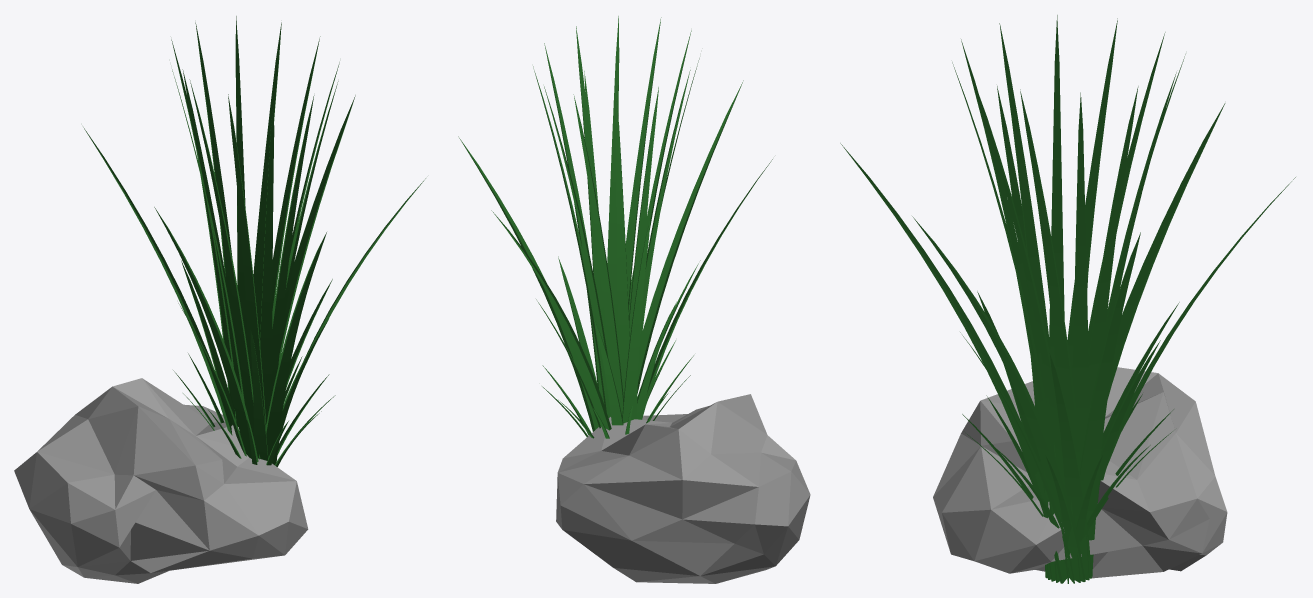
Rendered from RockGrass.FBX.
3 views of the same model, side by side, from view 1: azimuth 30°, elevation 25°; view 2: azimuth 150°, elevation 25°; view 3: azimuth 270°, elevation 25° (orthographic). The views are drawn at different scales.
Visible parts, largest first — view 1: Group25439; view 2: Group25439; view 3: Group25439.
Boxes of the visible parts, <box> form: Group25439: <box>14,16,425,583</box>; Group25439: <box>458,16,810,583</box>; Group25439: <box>840,15,1295,583</box>.
Size of the model in its own units: 28.33 by 40.64 by 29.88.
